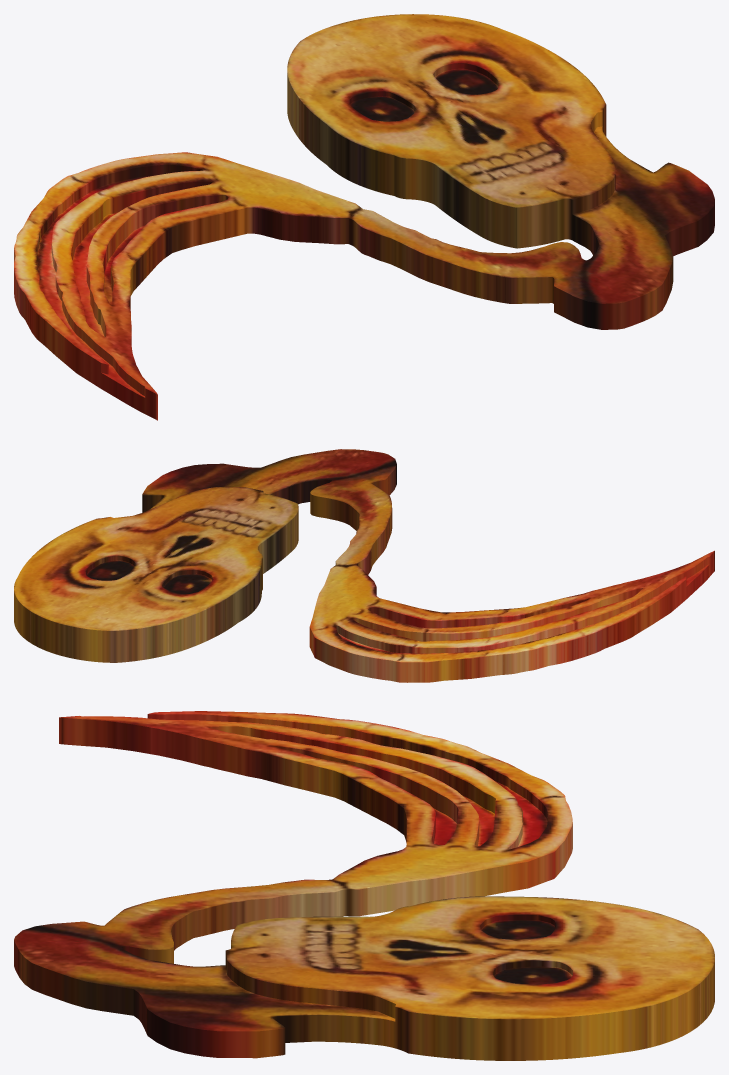
Rendered from mural mediciana der 4.dae.
The picture shows the model from 3 angles, top to bottom: view 1: azimuth 30°, elevation 25°; view 2: azimuth 150°, elevation 25°; view 3: azimuth 270°, elevation 25°; orthographic projection. The views are drawn at different scales.
Parts seen in each view (by area): view 1: SketchUp (×5); view 2: SketchUp (×5); view 3: SketchUp (×5).
Part boxes in pixels (x1=…): SketchUp (×5): x1=14, y1=14, x2=714, y2=420; SketchUp (×5): x1=14, y1=449, x2=714, y2=682; SketchUp (×5): x1=14, y1=711, x2=714, y2=1060.
Bounding box in the file's own units: 51.88 × 47.55 × 3.12.
1 material, 1 textured.
